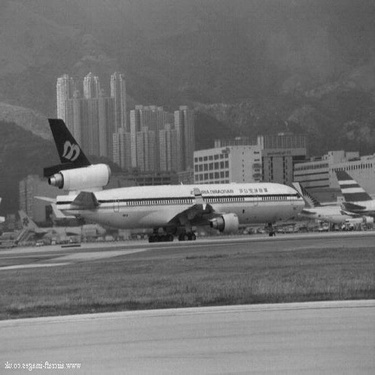airplane: (17, 101, 312, 258), (3, 196, 113, 256), (273, 173, 372, 236), (323, 165, 372, 222)
